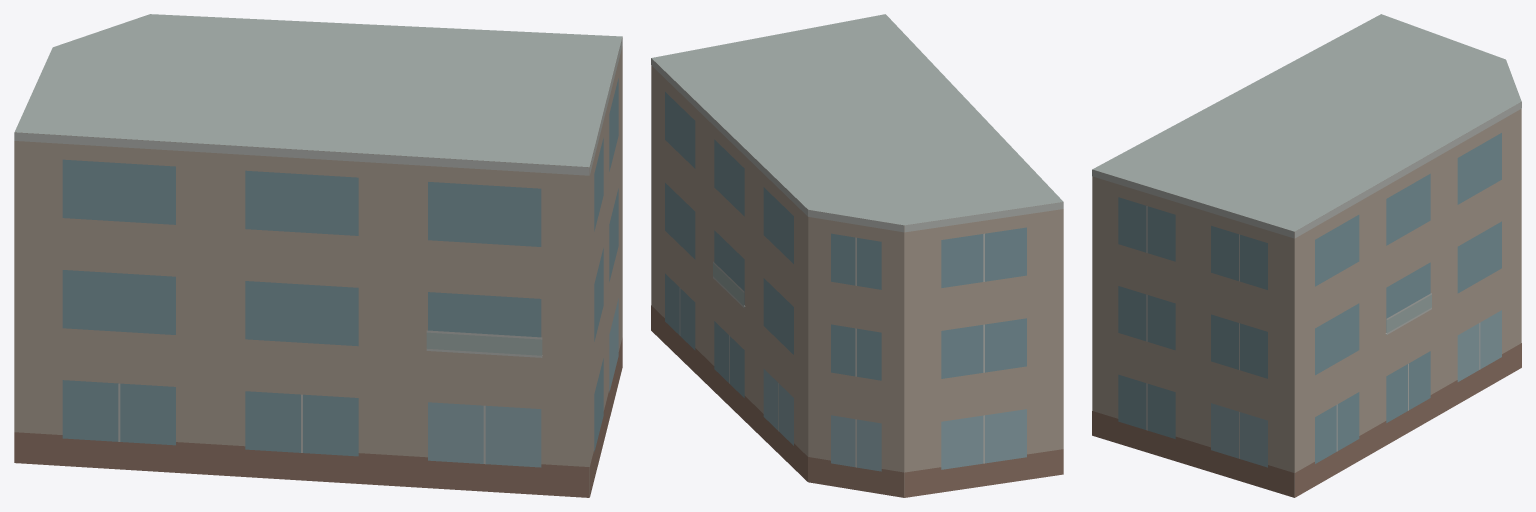
File: survey-upis-32830457.glb
3 views of the same model, side by side, from view 1: azimuth 30°, elevation 25°; view 2: azimuth 150°, elevation 25°; view 3: azimuth 270°, elevation 25° (orthographic). The views are drawn at different scales.
Visible parts, largest first — view 1: survey-upis-32830457.tmp; view 2: survey-upis-32830457.tmp; view 3: survey-upis-32830457.tmp.
Part boxes in pixels (x1,y1,x2,y2): survey-upis-32830457.tmp: (14,14,622,497); survey-upis-32830457.tmp: (651,14,1063,497); survey-upis-32830457.tmp: (1092,14,1521,497).
Bounding box in the file's own units: 16.5 × 9.4 × 13.76.
